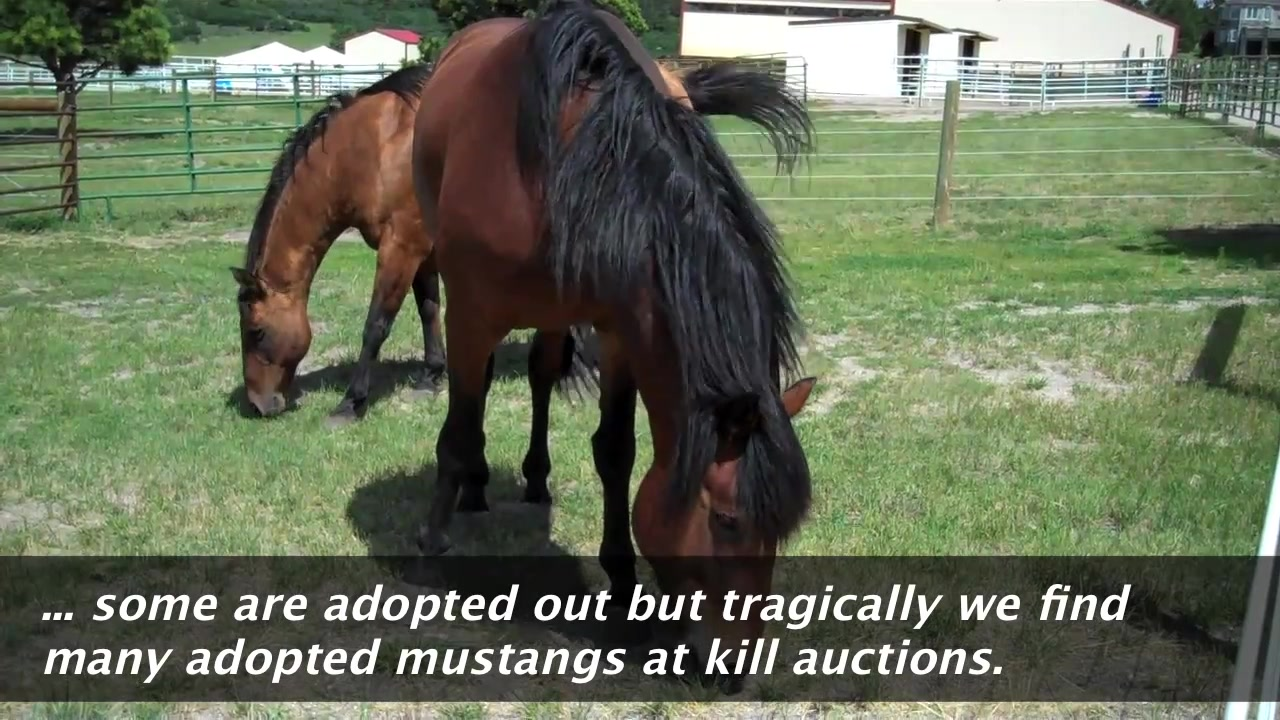horse: (410, 7, 817, 677), (226, 61, 817, 427)
